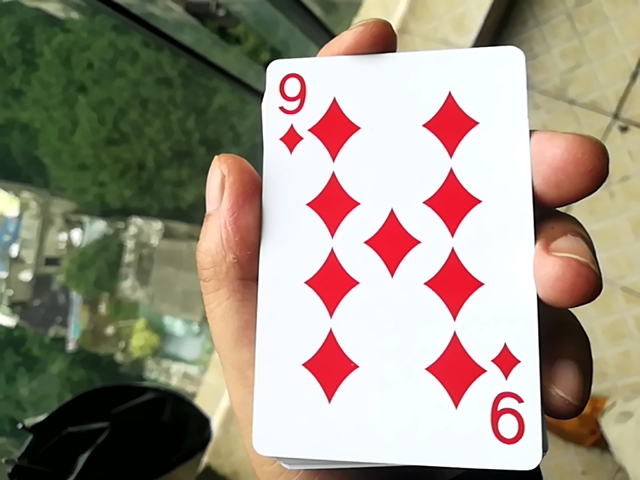fk 9: (244, 37, 543, 468)
